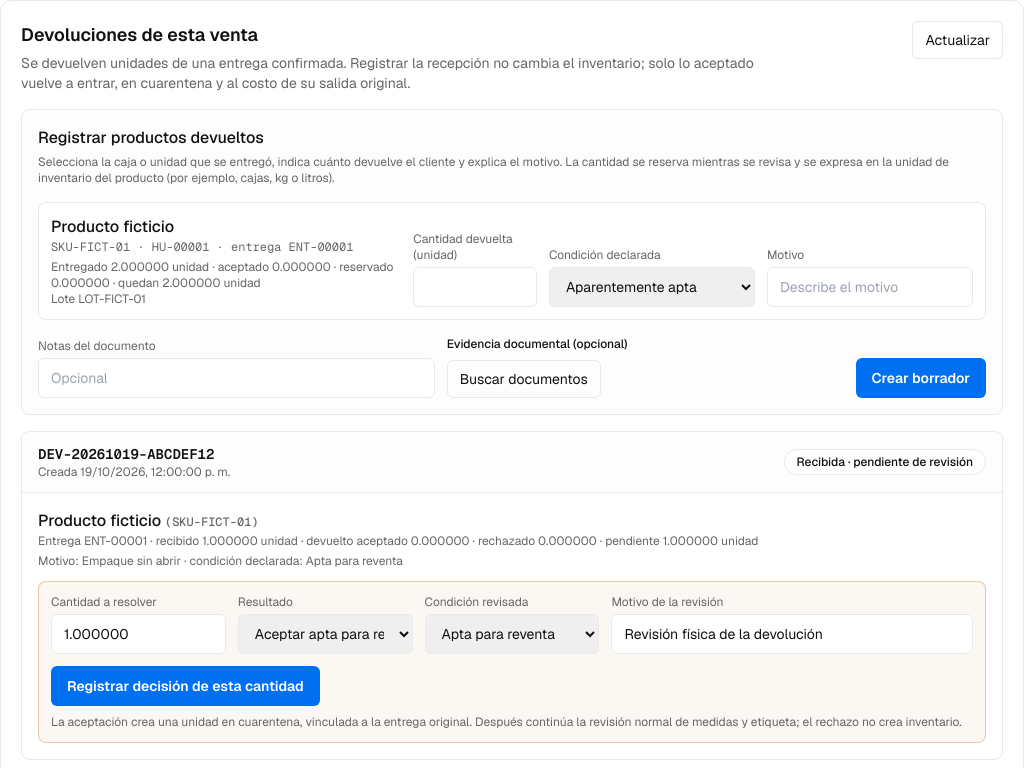
Scenario: SalesReturnsPanel › rechaza una cantidad a resolver inválida:
Clear the number field labelled "Cantidad a resolver". click: (138, 634)
box: [51,614,226,654]
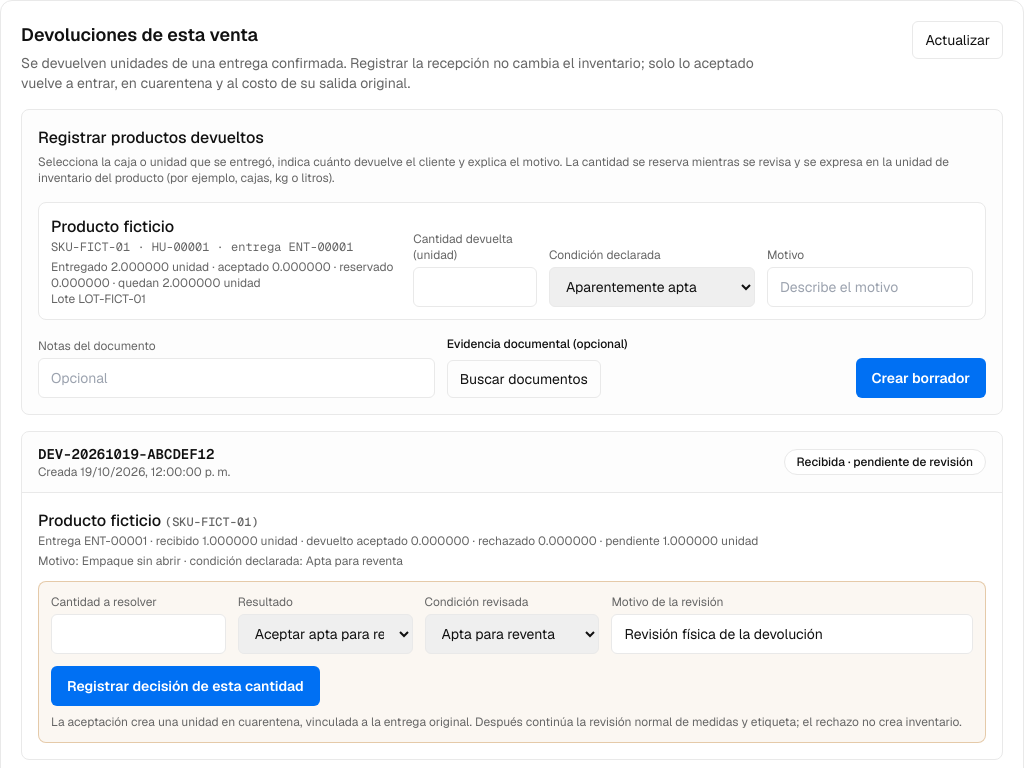
Click the button "Registrar decisión de esta cantidad". click: (185, 686)
box: [51,666,320,706]
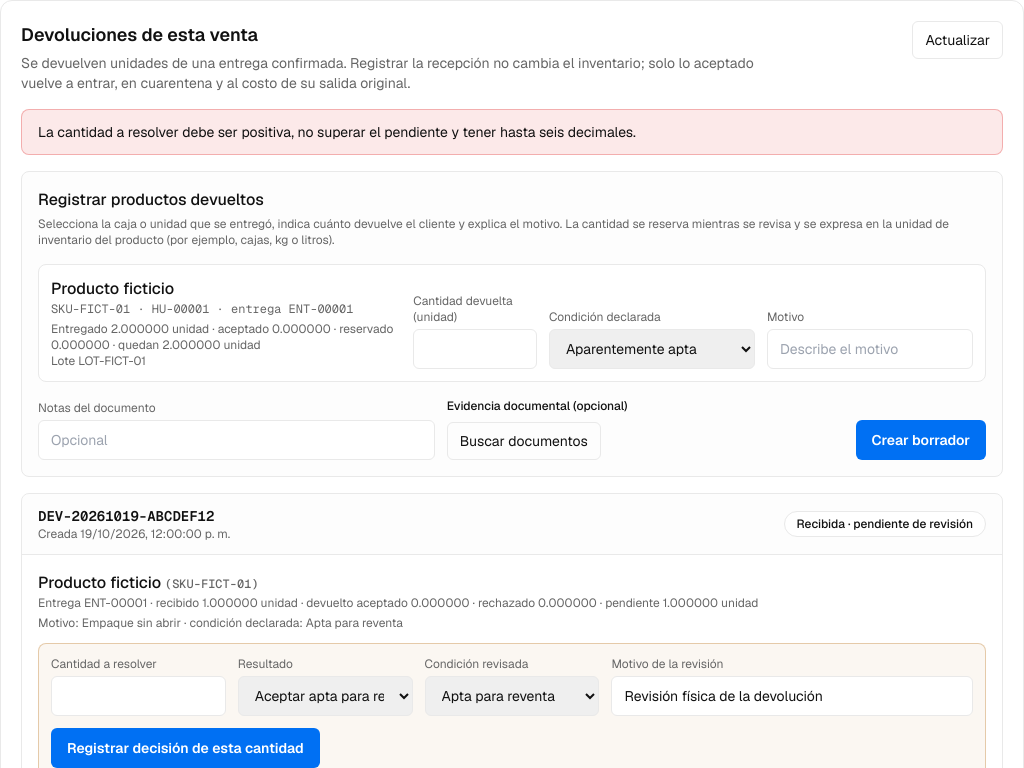
Now the message shows "La cantidad a resolver debe ser positiva", box [38,123,636,141]
